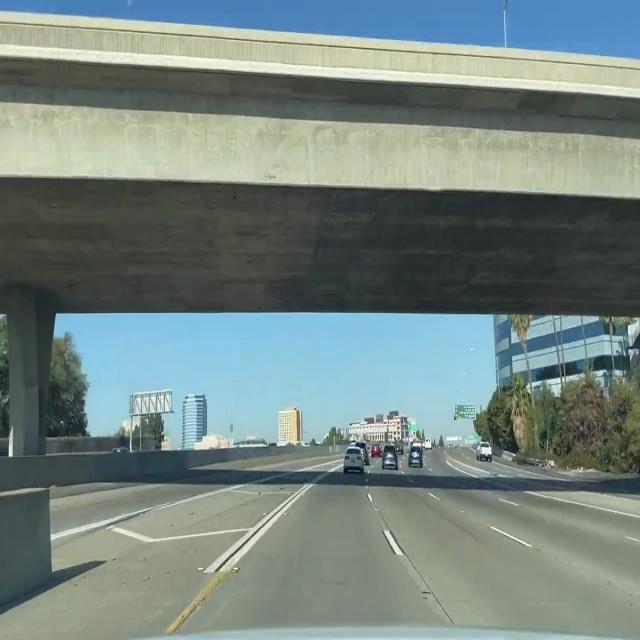street-signs: (454, 402, 476, 420), (410, 422, 417, 430)
